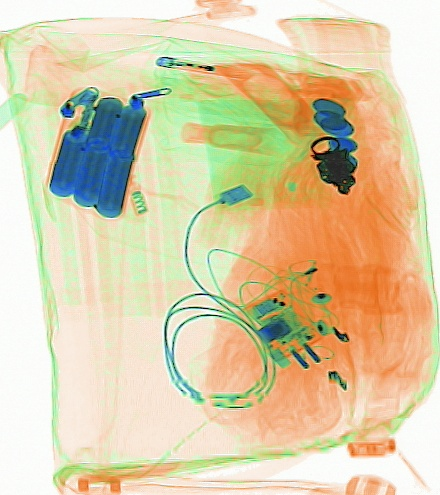lighter: (151, 54, 253, 82)
powerbank: (43, 82, 152, 224)
